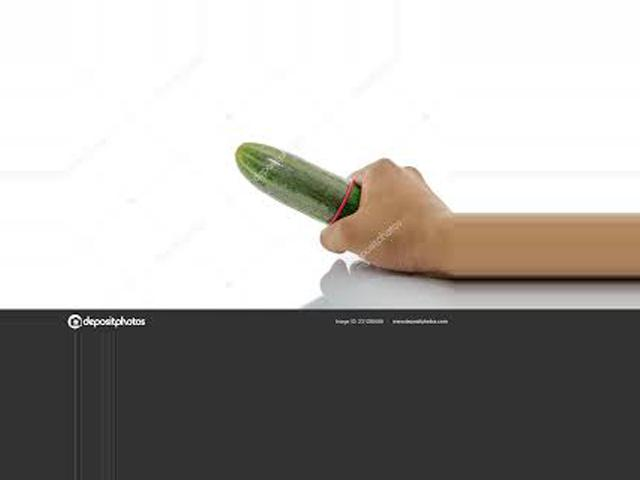cucumber: (235, 142, 361, 223)
